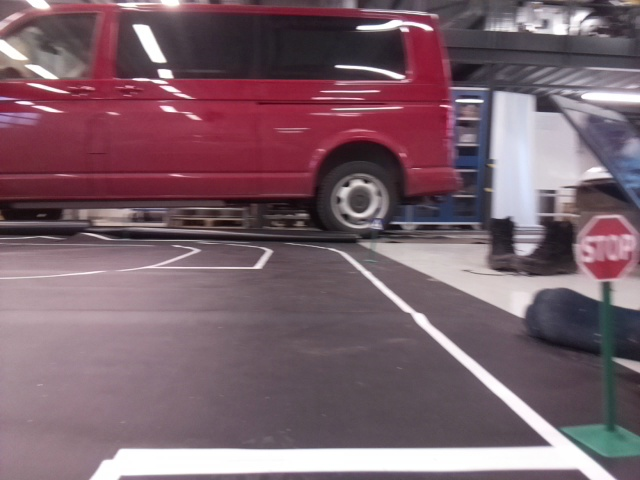Stop: (575, 210, 639, 286)
